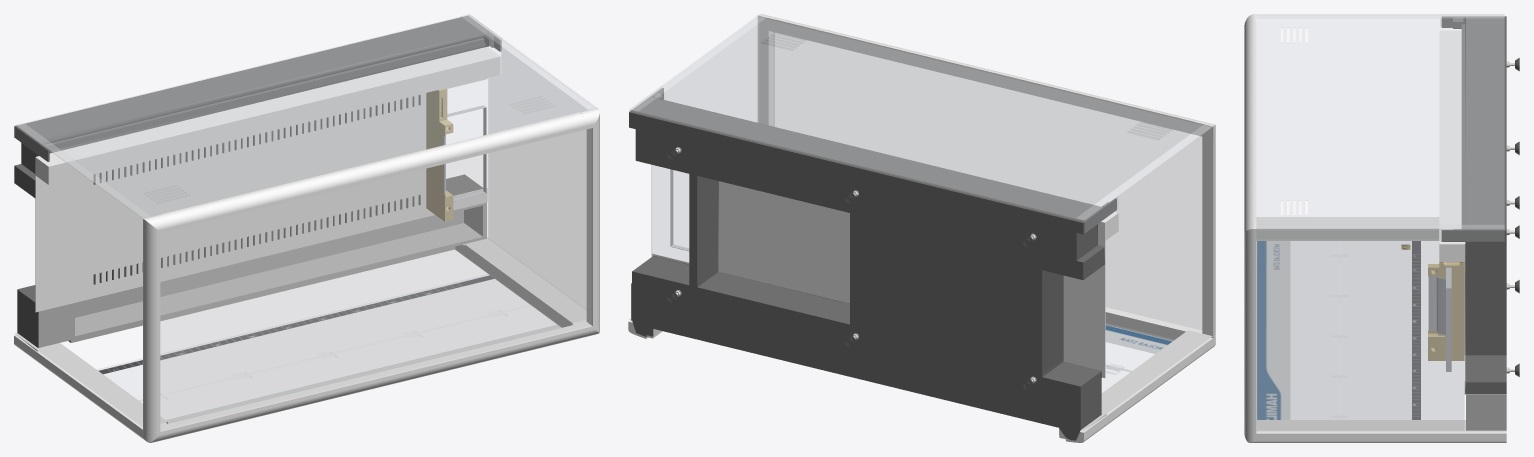
Rendered from star_base.glb.
3 views of the same model, side by side, from view 1: azimuth 30°, elevation 25°; view 2: azimuth 150°, elevation 25°; view 3: azimuth 270°, elevation 25° (orthographic). The views are drawn at different scales.
Parts seen in each view (by area): view 1: star_base; view 2: star_base; view 3: star_base.
Boxes of the visible parts, <box> form: star_base: <box>14,14,599,442</box>; star_base: <box>628,14,1215,442</box>; star_base: <box>1244,14,1519,442</box>.
Size of the model in its own units: 1.67 by 0.7926 by 0.903.
14 materials, 3 textured.
